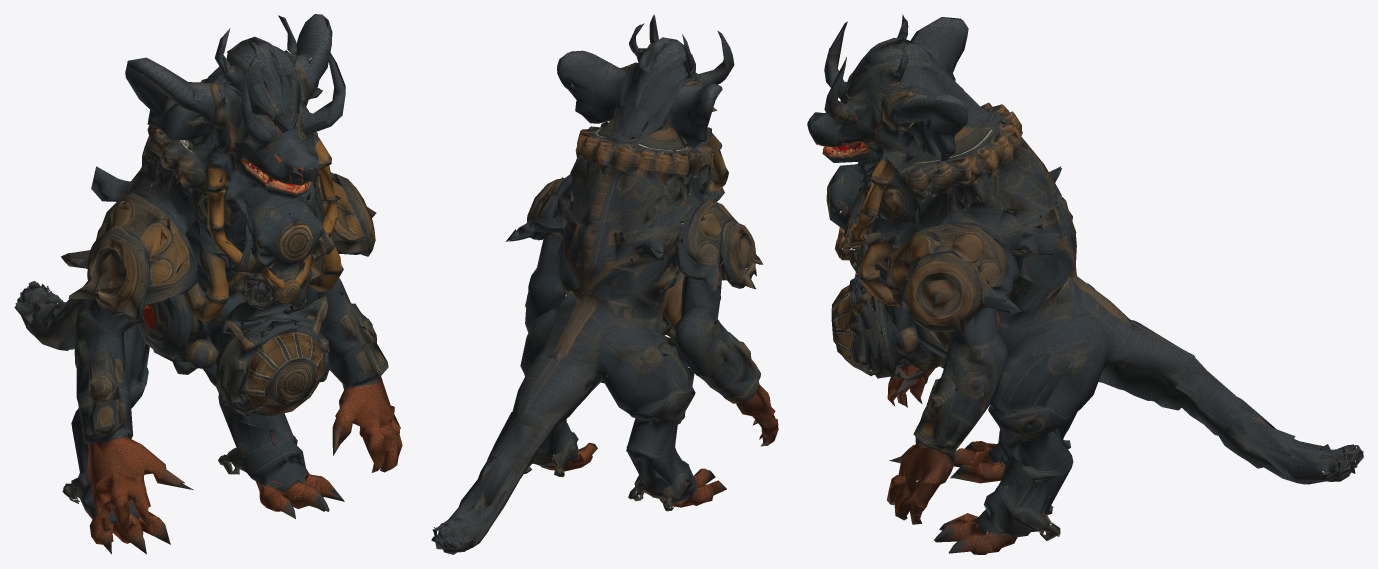
The model's file is haetae_statue.glb.
3 views of the same model, side by side, from view 1: azimuth 30°, elevation 25°; view 2: azimuth 150°, elevation 25°; view 3: azimuth 270°, elevation 25° (orthographic). The views are drawn at different scales.
Visible parts, largest first — view 1: mesh_node; view 2: mesh_node; view 3: mesh_node.
Boxes of the visible parts, x1=… form: mesh_node: x1=14, y1=14, x2=402, y2=554; mesh_node: x1=431, y1=14, x2=778, y2=554; mesh_node: x1=807, y1=14, x2=1363, y2=554.
Size of the model in its own units: 1.93 by 3.2 by 3.34.
Materials: 1 (1 with a texture image).
